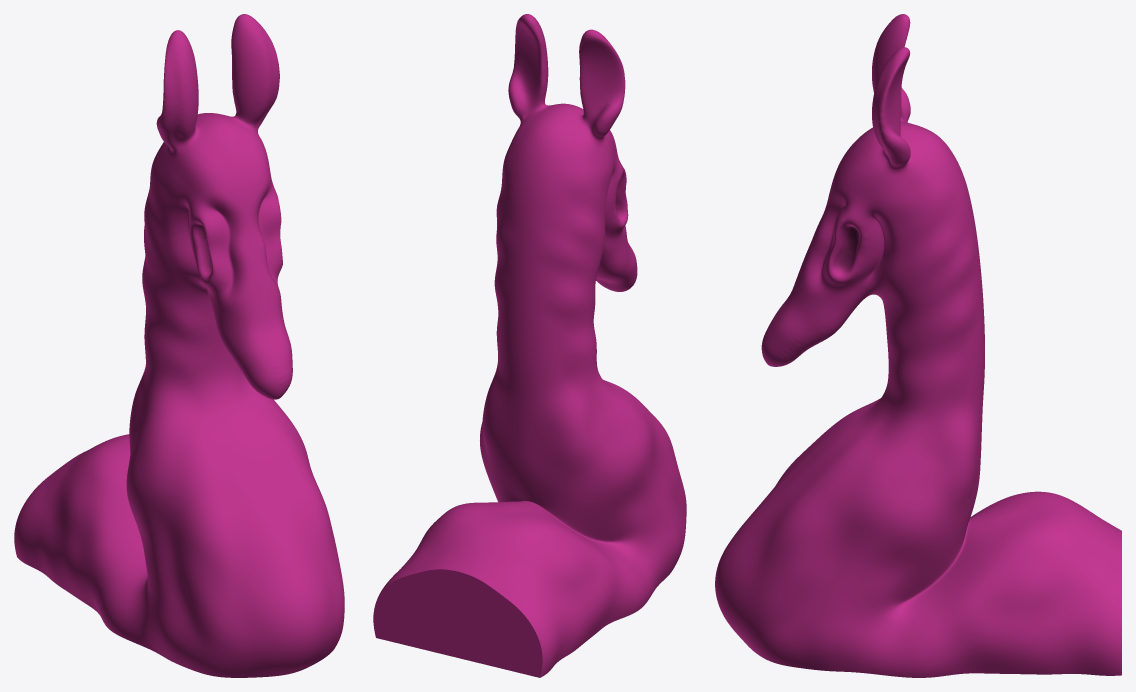
File: Cane_01_LOD1.glb
The picture shows the model from 3 angles, left to right: view 1: azimuth 30°, elevation 25°; view 2: azimuth 150°, elevation 25°; view 3: azimuth 270°, elevation 25°; orthographic projection. The views are drawn at different scales.
Visible parts, largest first — view 1: Tube; view 2: Tube; view 3: Tube.
Part boxes in pixels (x1,y1,x2,y2): Tube: (14, 14, 344, 677); Tube: (373, 14, 686, 677); Tube: (715, 14, 1121, 677).
Bounding box in the file's own units: 1.38 × 4.18 × 2.56.
